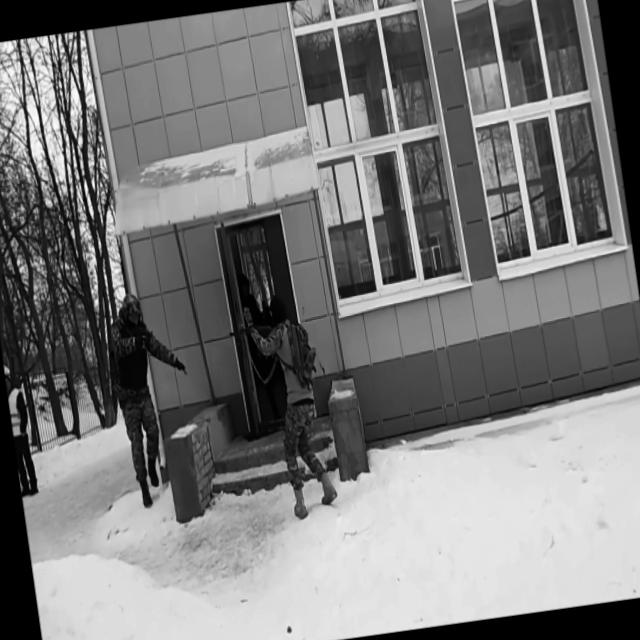gun: (228, 318, 281, 364), (119, 317, 158, 358)
person: (237, 270, 284, 422), (3, 364, 40, 500)
person with a gun: (224, 288, 340, 526), (101, 285, 206, 512)
